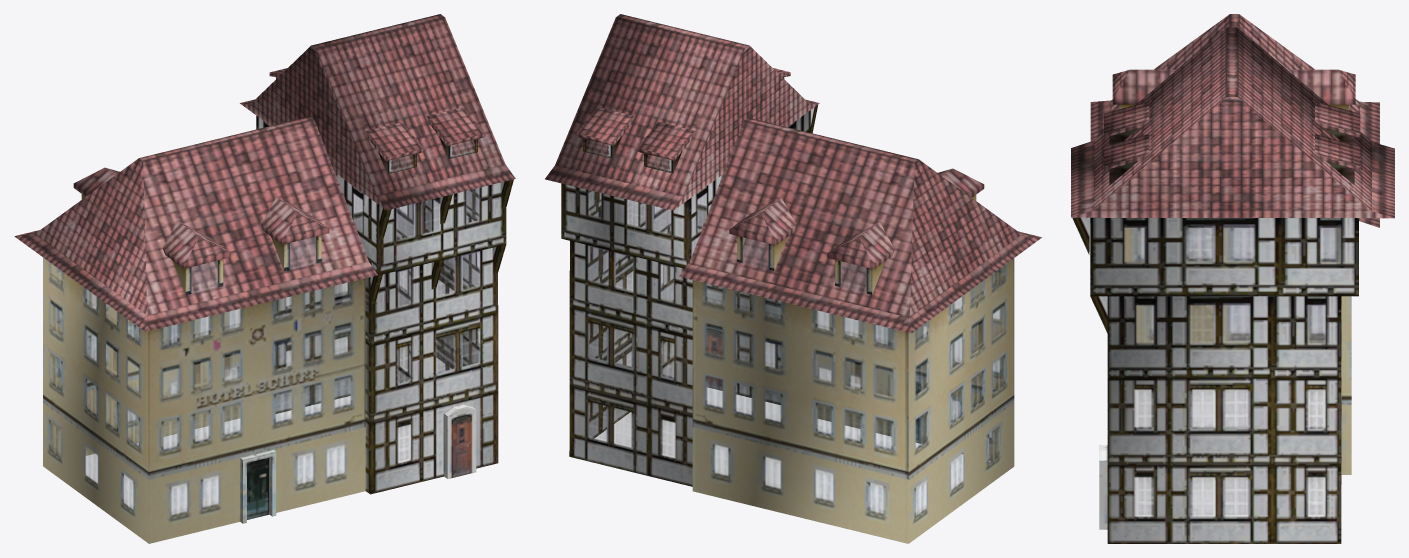
Rendered from Civilian - Residential Building - German Town House 2 - Night - CBTownHs02_N.glb.
The picture shows the model from 3 angles, left to right: view 1: azimuth 30°, elevation 25°; view 2: azimuth 150°, elevation 25°; view 3: azimuth 270°, elevation 25°; orthographic projection. The views are drawn at different scales.
Visible parts, largest first — view 1: CBTOWNHS02_N; view 2: CBTOWNHS02_N; view 3: CBTOWNHS02_N.
Boxes of the visible parts, x1=… form: CBTOWNHS02_N: x1=14, y1=14, x2=515, y2=543; CBTOWNHS02_N: x1=545, y1=14, x2=1041, y2=543; CBTOWNHS02_N: x1=1071, y1=14, x2=1394, y2=543.
Bounding box in the file's own units: 56.15 × 60.25 × 39.54.
Materials: 1 (1 with a texture image).
